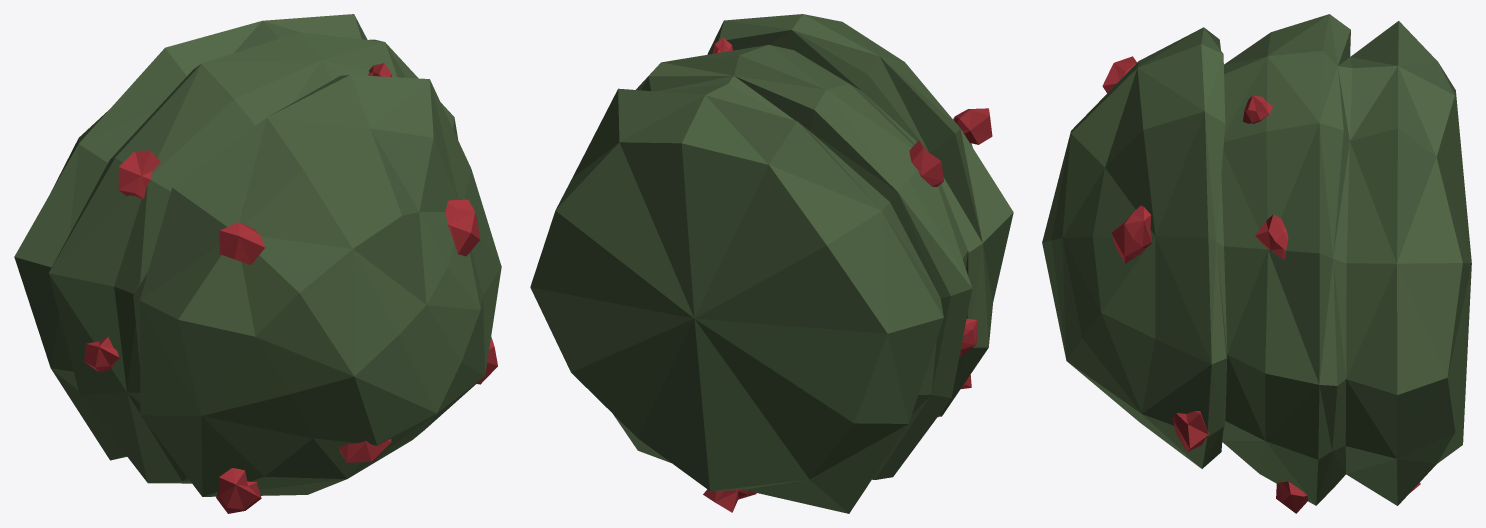
The model's file is shrub-berries-2.obj.
3 renders of one model, left to right at view 1: azimuth 30°, elevation 25°; view 2: azimuth 150°, elevation 25°; view 3: azimuth 270°, elevation 25°, orthographic. The views are drawn at different scales.
Visible parts, largest first — view 1: shrub-berries-2; view 2: shrub-berries-2; view 3: shrub-berries-2.
Part boxes in pixels (x1=…): shrub-berries-2: x1=14, y1=14, x2=501, y2=513; shrub-berries-2: x1=530, y1=14, x2=1013, y2=513; shrub-berries-2: x1=1042, y1=14, x2=1471, y2=513.
Size of the model in its own units: 49.77 by 49.61 by 42.
